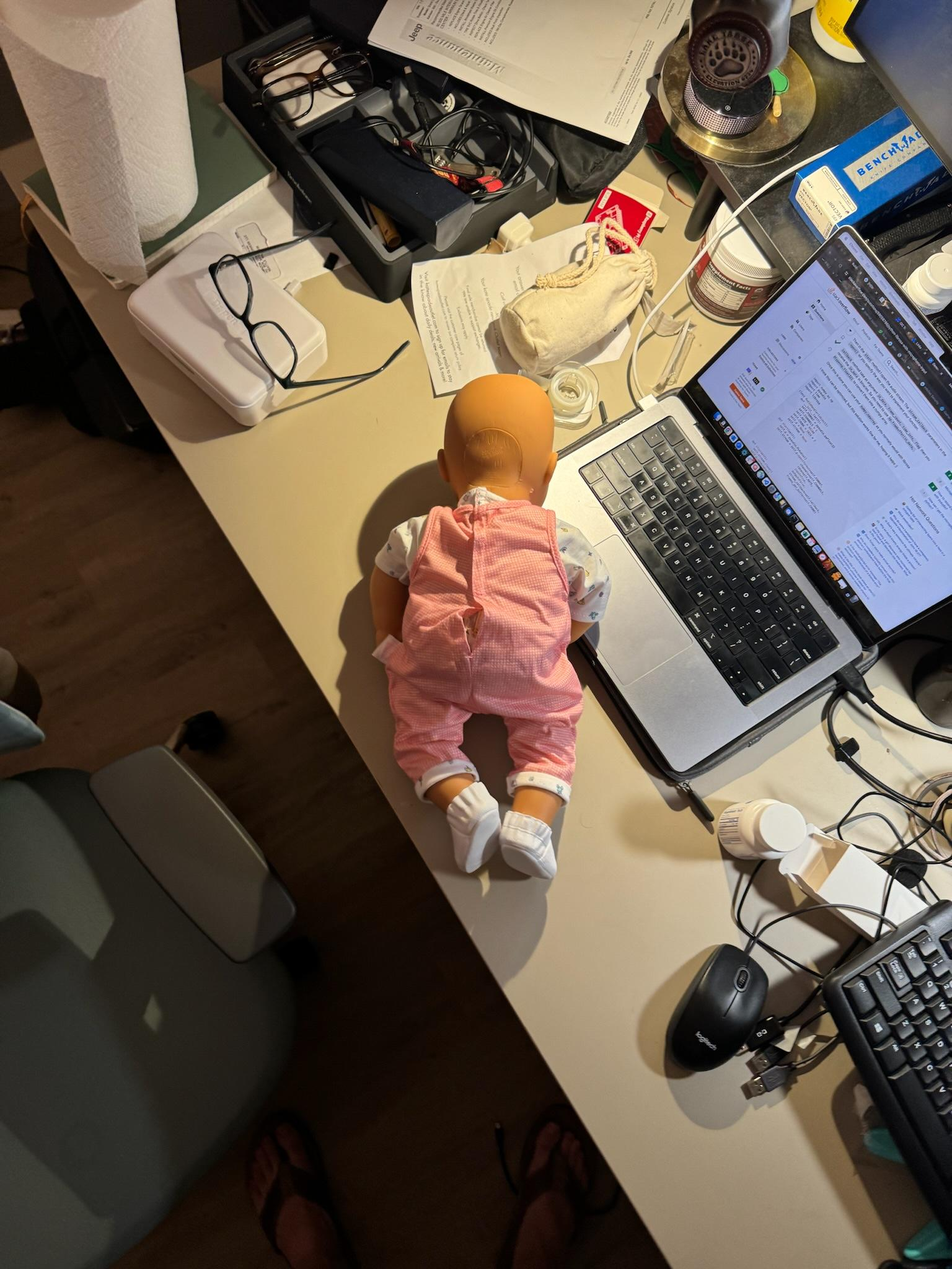baby: (349, 361, 622, 901)
